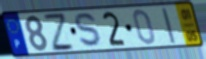0: (131, 8, 156, 47)
2: (102, 11, 127, 47)
8: (24, 14, 49, 53)
I: (159, 6, 178, 45)
S: (73, 12, 105, 50)
Z: (41, 13, 77, 53)
